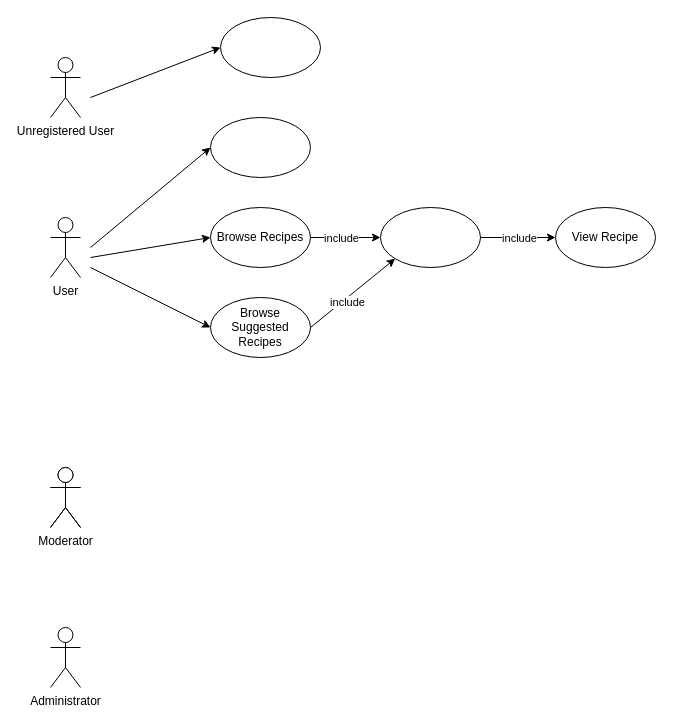
The diagram is 673 pixels wide and 726 high, and some of its shapes have lost their labels. Here are the shapes that lost their labels. From the top down, the centre of each, then its label:
[270,47]: Sign-up
[260,147]: Log-In/Out
[430,237]: Find Recipe
